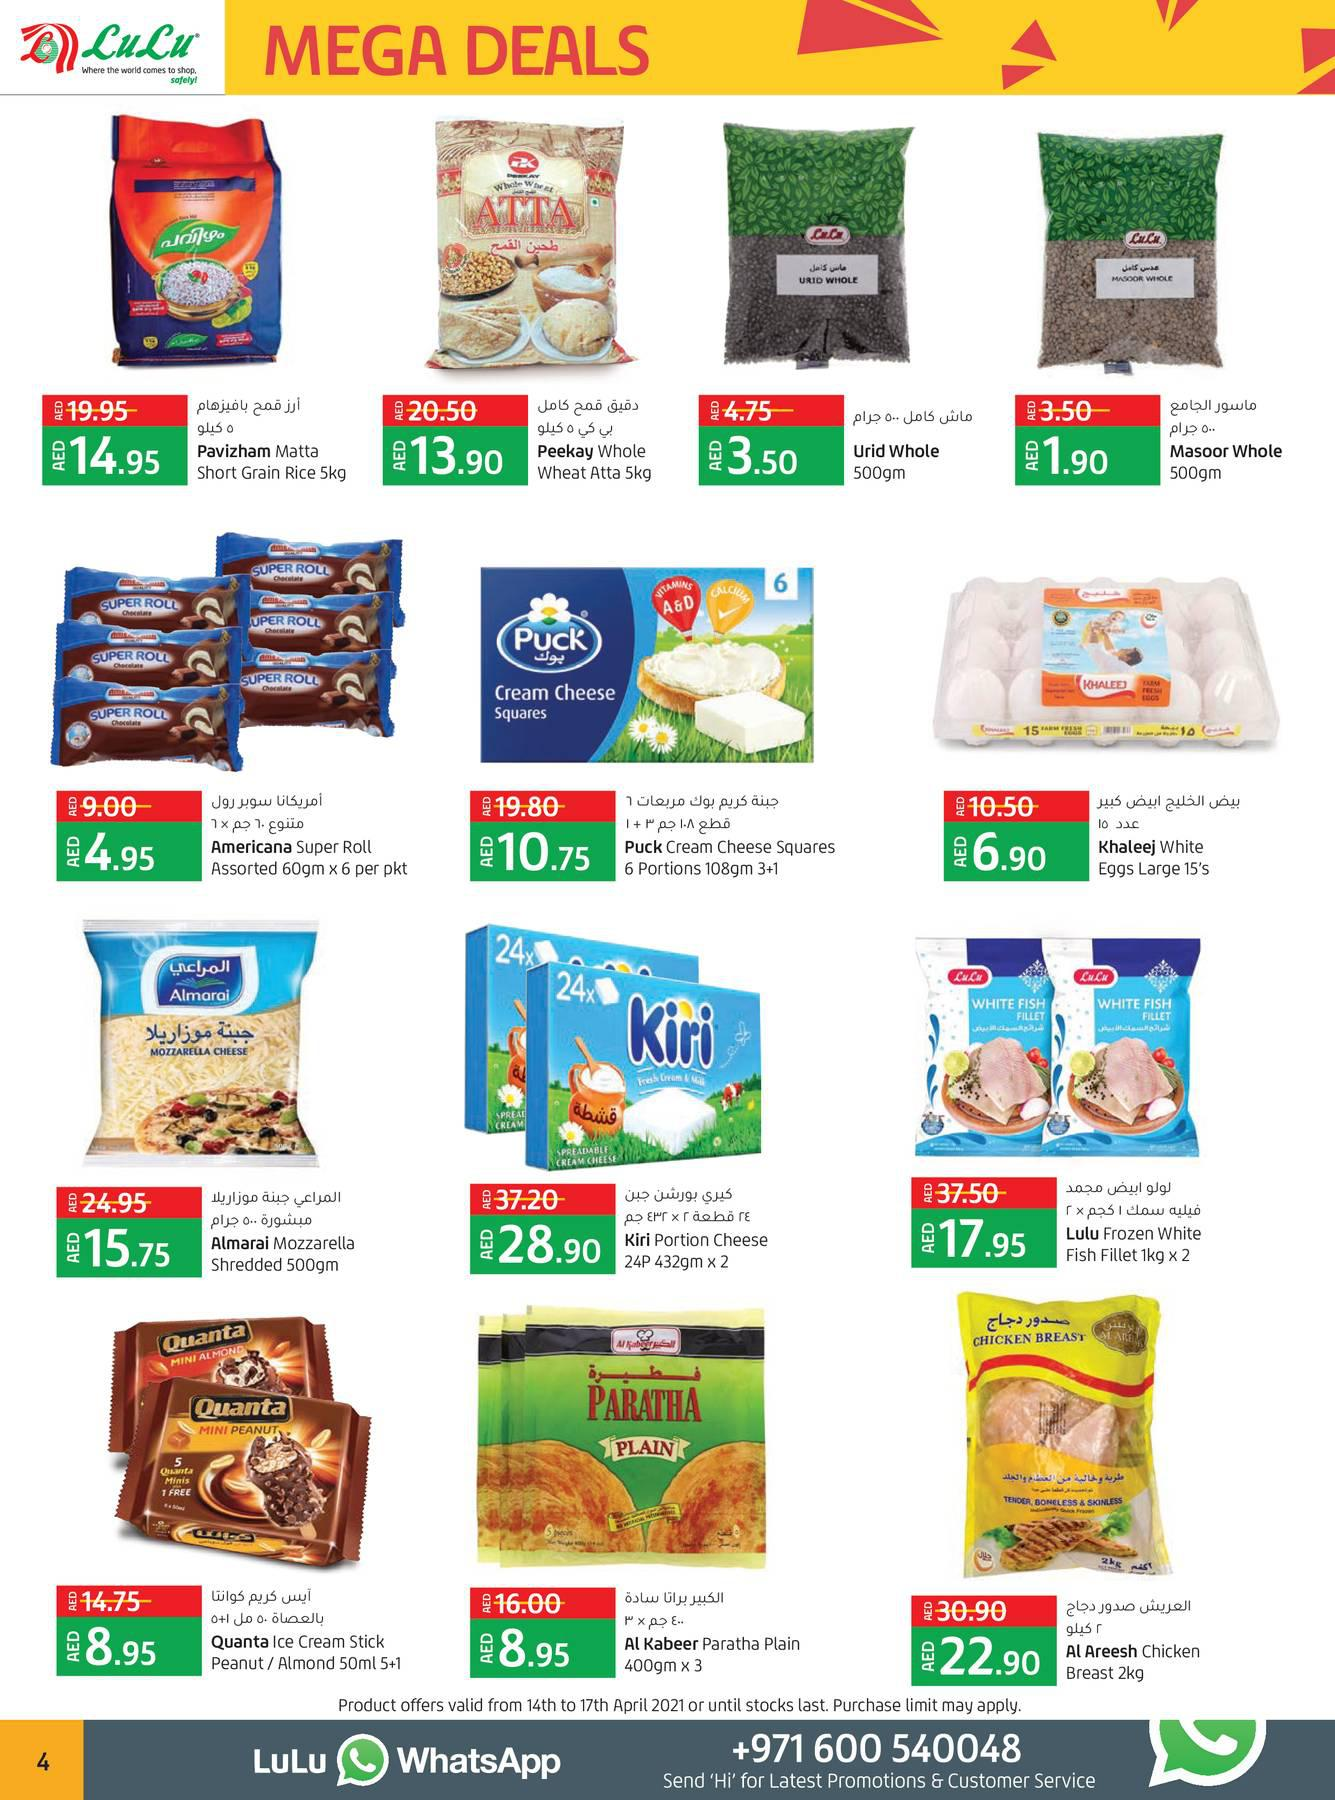text: (617, 784, 864, 896), (203, 779, 429, 897), (617, 1581, 839, 1686), (618, 1178, 809, 1280), (1091, 785, 1272, 892), (206, 1179, 381, 1288), (191, 386, 367, 493), (1059, 1588, 1228, 1698), (527, 384, 693, 491), (1160, 387, 1307, 502), (1057, 1171, 1221, 1271), (844, 398, 998, 492)
